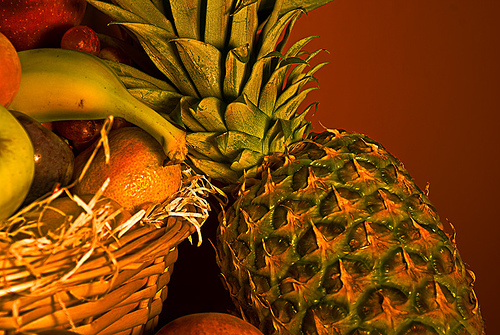pineapple: (84, 0, 488, 334)
